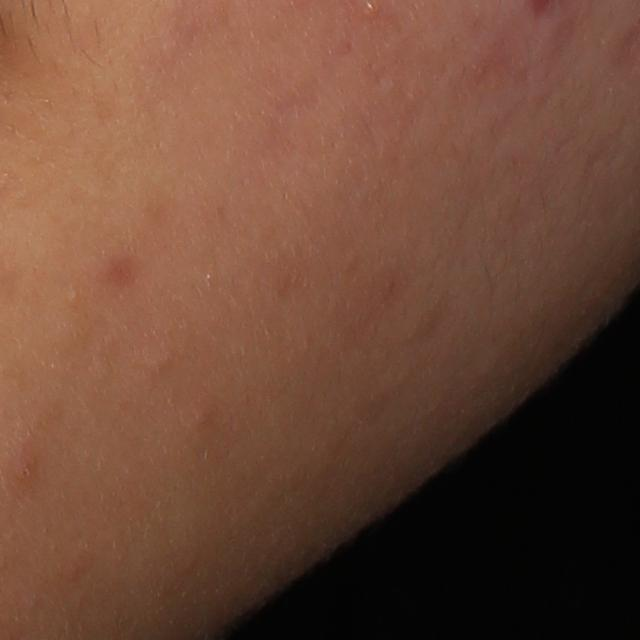comedo: (189, 401, 219, 433), (145, 349, 170, 373), (63, 286, 83, 309)
